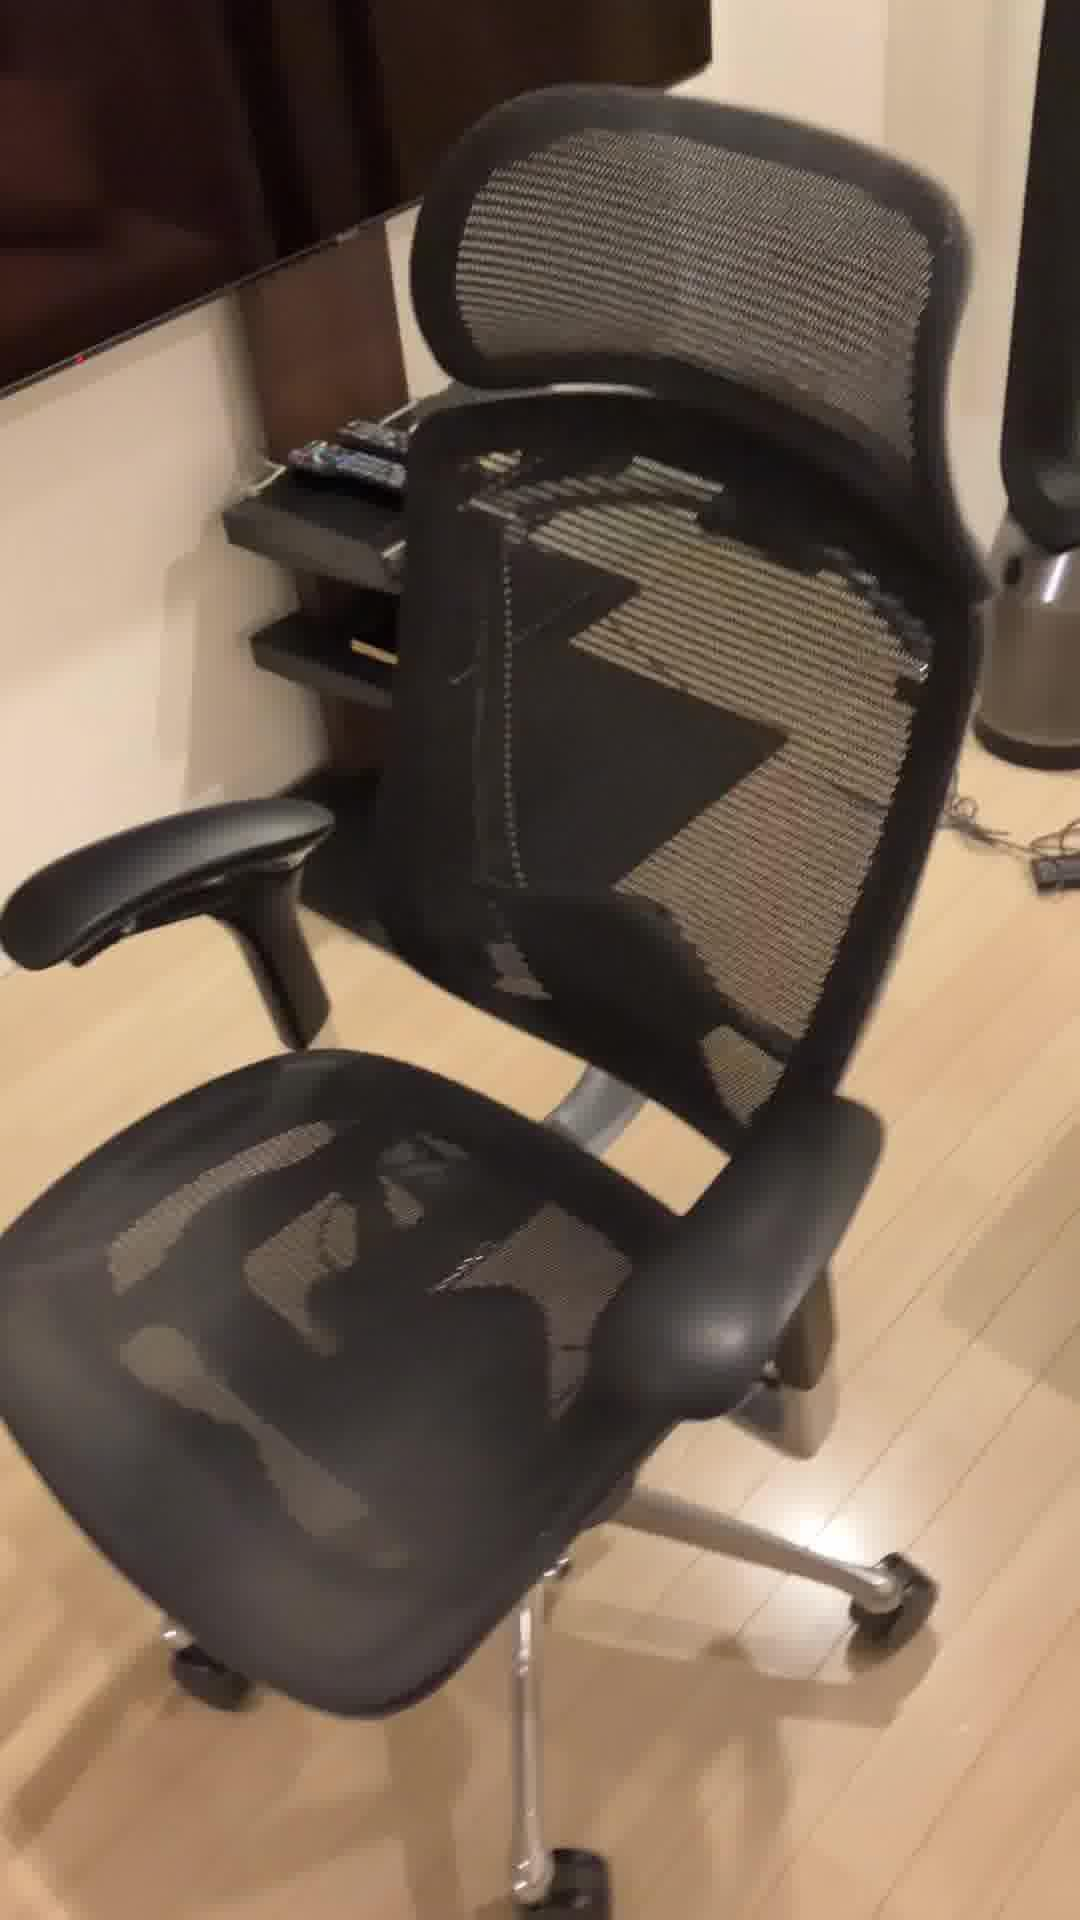okamura-contessa: (0, 82, 992, 1920)
